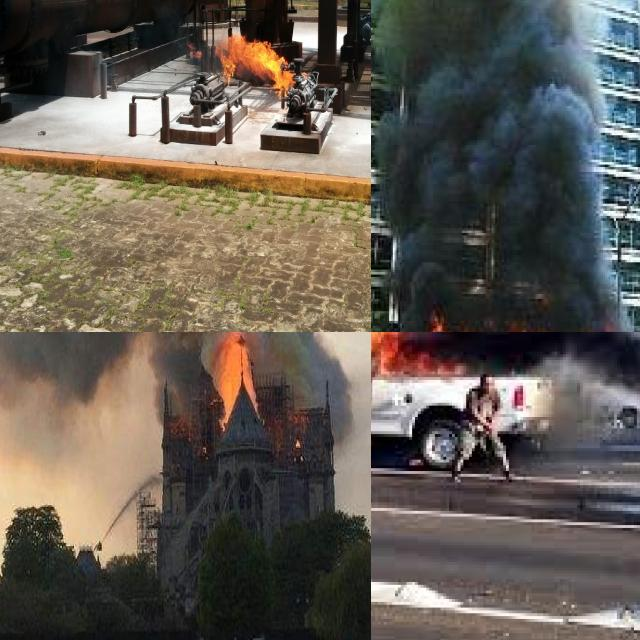fire: (371, 332, 477, 470), (431, 303, 640, 332), (227, 27, 298, 99), (214, 332, 263, 431)
smoke: (371, 0, 636, 332), (0, 332, 355, 431)
